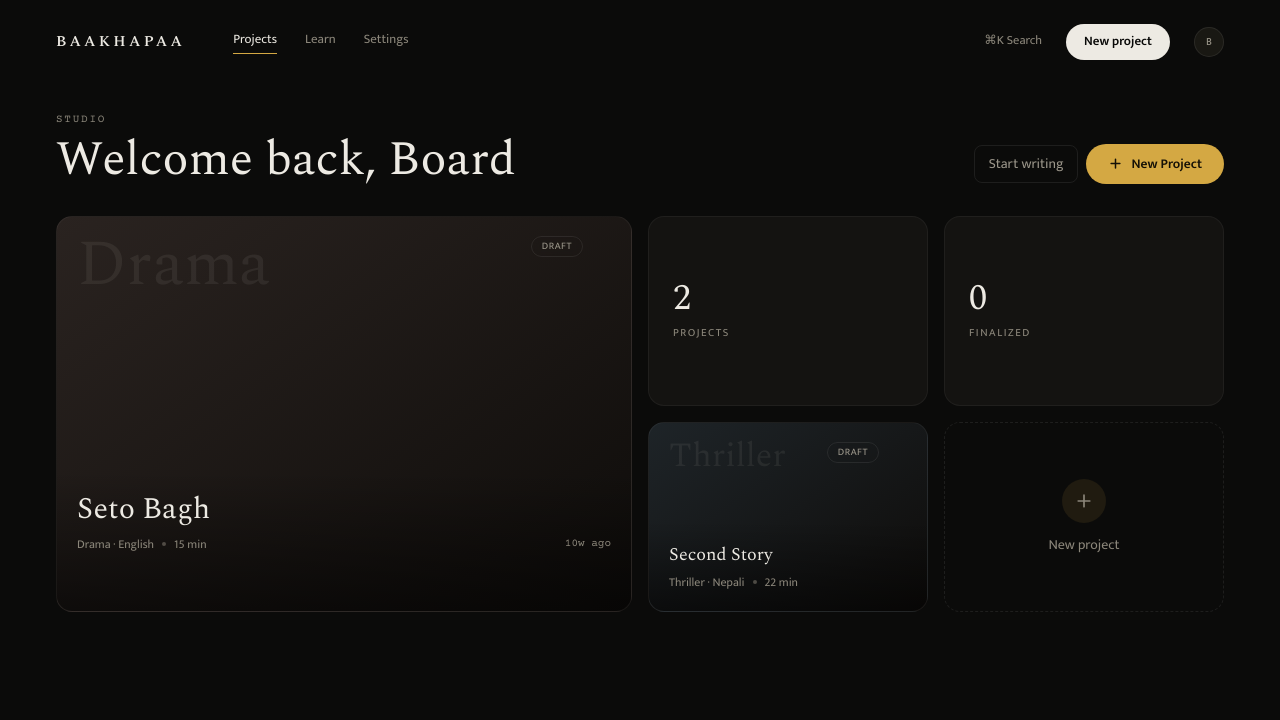
Test case: starting to write without answering anything › says why when a free writer is at their allowance
Click the button "Start writing": [1026, 164] box x1=974 y1=145 x2=1078 y2=183
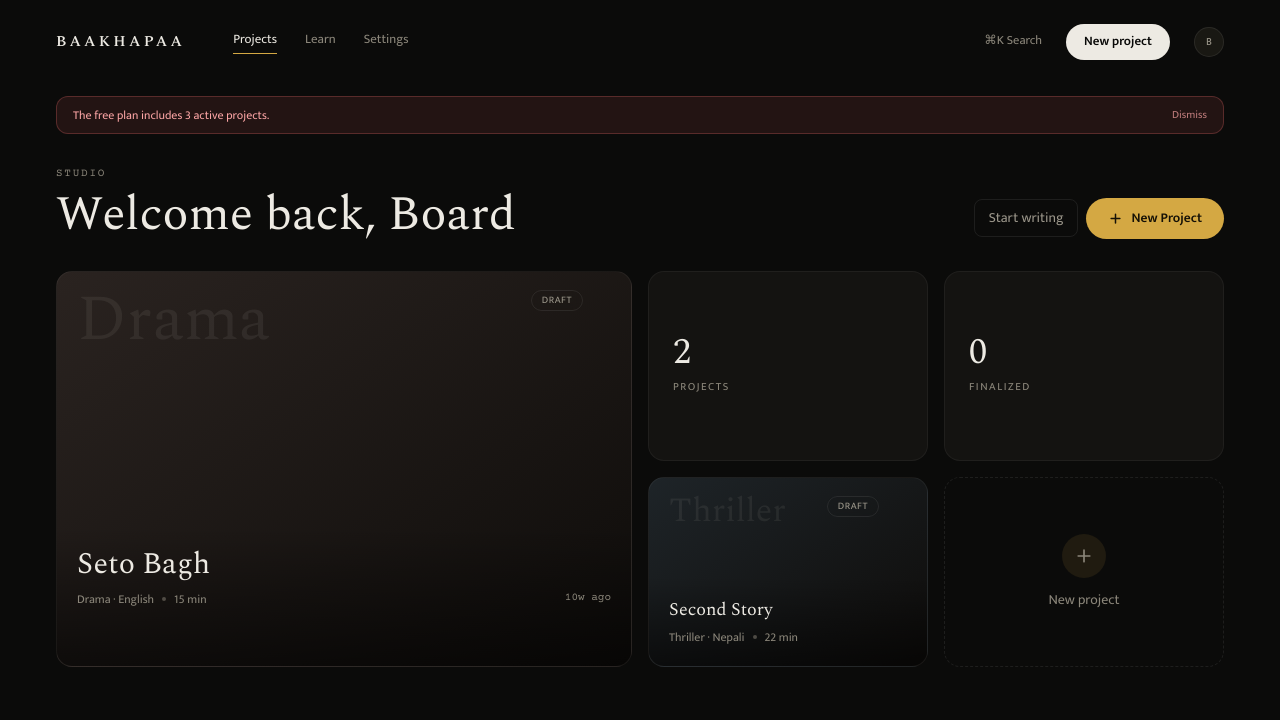
Check: the text "The free plan includes 3 active projects." is shown, box x1=73 y1=104 x2=269 y2=124
